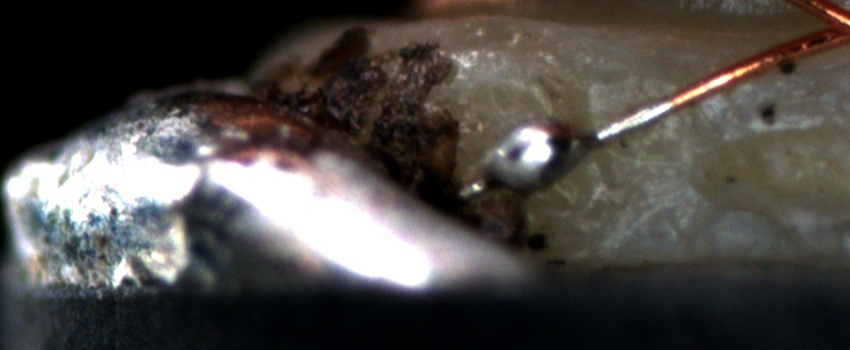TB: (481, 113, 593, 192)
TS: (451, 96, 674, 201)
TTCW: (432, 67, 732, 209)
